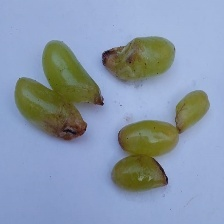grapes: (29, 51, 186, 214)
